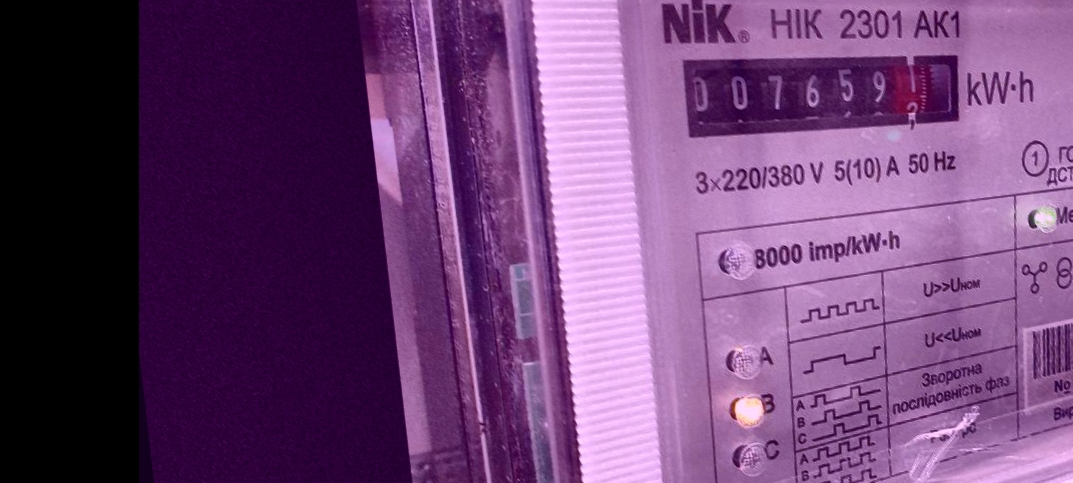0: (725, 69, 754, 113), (686, 71, 714, 114)
1: (902, 61, 923, 96)
5: (834, 64, 858, 104)
6: (799, 69, 825, 110)
7: (764, 70, 788, 112)
9: (869, 66, 890, 105)
screen: (670, 18, 975, 170)
